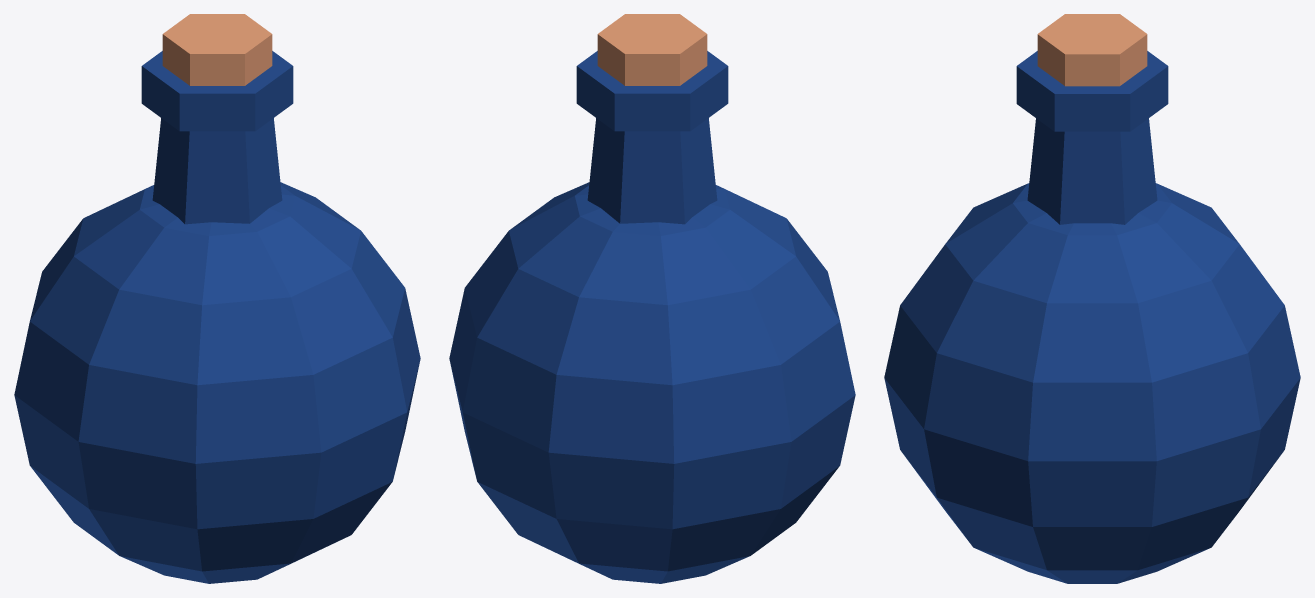
File: Halloween_BottleBlue.fbx
3 renders of one model, left to right at view 1: azimuth 30°, elevation 25°; view 2: azimuth 150°, elevation 25°; view 3: azimuth 270°, elevation 25°, orthographic.
Visible parts, largest first — view 1: Flask; view 2: Flask; view 3: Flask.
Part boxes in pixels (left/top/right/bottom): Flask: left=14, top=14, right=420, bottom=583; Flask: left=449, top=14, right=855, bottom=583; Flask: left=884, top=14, right=1300, bottom=583.
Size of the model in its own units: 174 by 258 by 183.
